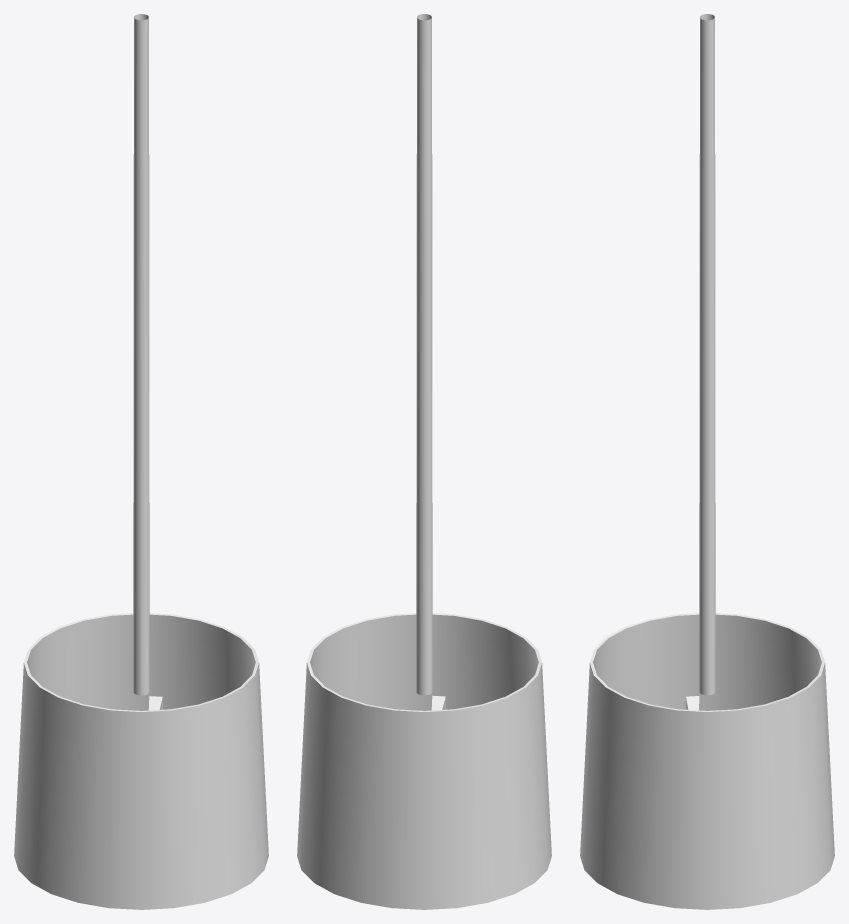
Rendered from HangingLightFixture-Can.FBX.
3 renders of one model, left to right at view 1: azimuth 30°, elevation 25°; view 2: azimuth 150°, elevation 25°; view 3: azimuth 270°, elevation 25°, orthographic.
Visible parts, largest first — view 1: Light Fixture Hanging Can; view 2: Light Fixture Hanging Can; view 3: Light Fixture Hanging Can.
Boxes of the visible parts, x1,y1,x2,y2 form: Light Fixture Hanging Can: (14, 14, 268, 909); Light Fixture Hanging Can: (297, 14, 551, 909); Light Fixture Hanging Can: (580, 14, 834, 909).
Size of the model in its own units: 0.3977 by 0.3977 by 1.5.
Materials: 2 (1 with a texture image).
